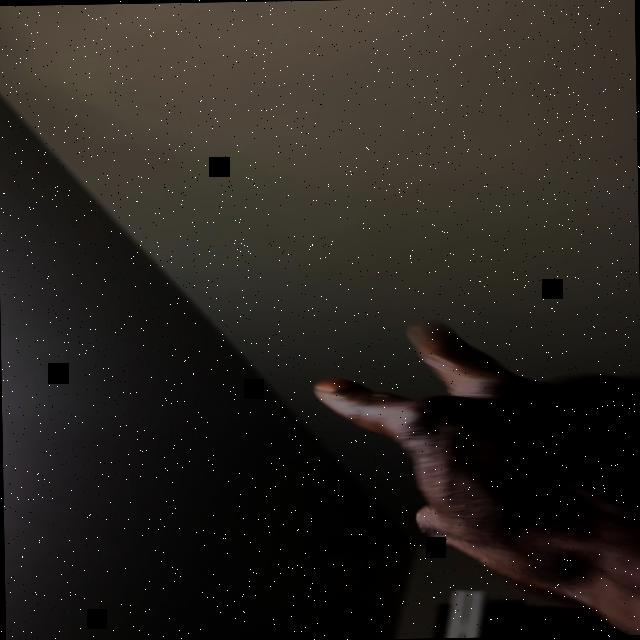Scissors: (316, 316, 640, 640)
